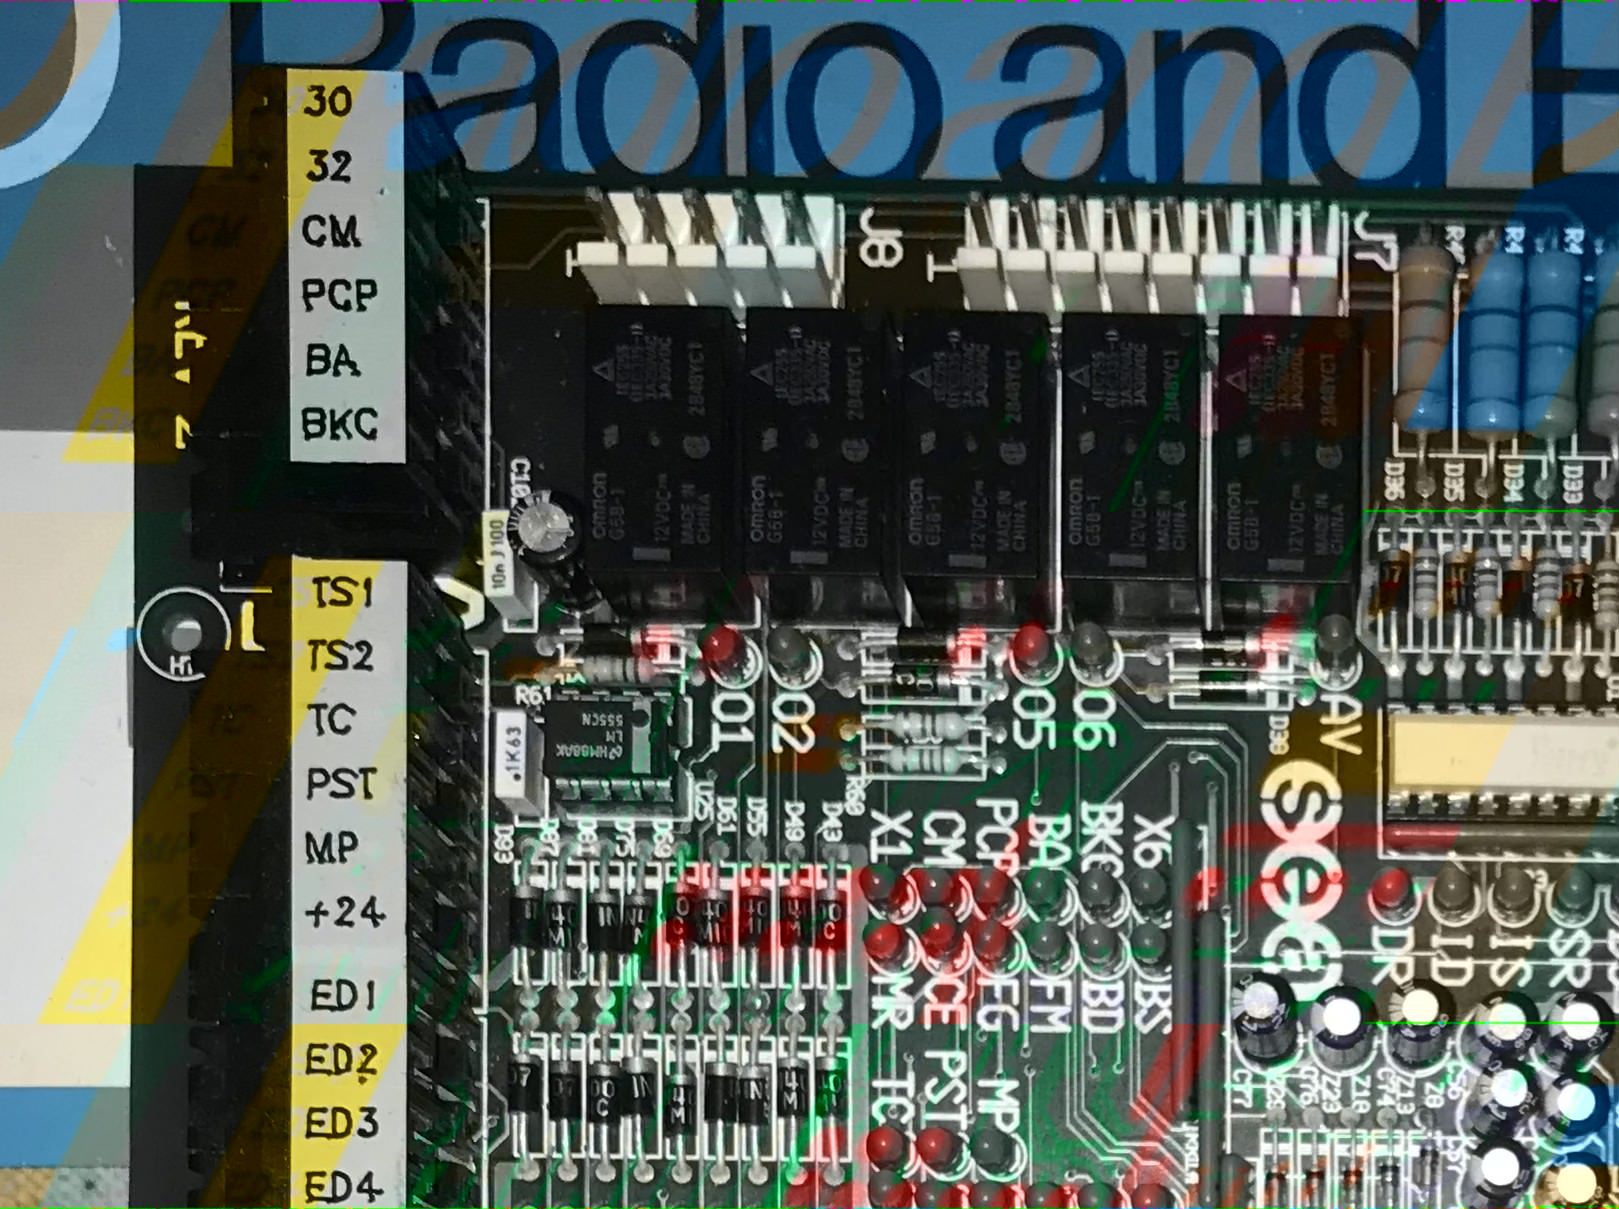Capacitor: (496, 485, 607, 610), (1225, 966, 1304, 1074), (1451, 1057, 1544, 1147), (1531, 989, 1616, 1079), (1383, 970, 1458, 1071), (1458, 985, 1543, 1072), (1307, 984, 1383, 1079), (1528, 1071, 1609, 1148), (1462, 1133, 1536, 1209), (1530, 1147, 1609, 1209)
Diode: (874, 625, 982, 667), (1173, 671, 1288, 707), (582, 880, 623, 972), (566, 616, 663, 654), (1559, 552, 1600, 643), (697, 875, 734, 970), (1186, 627, 1276, 665), (775, 878, 815, 961), (1496, 549, 1538, 630), (621, 883, 659, 970), (1371, 542, 1412, 624), (880, 660, 971, 696), (583, 1053, 623, 1133), (809, 1052, 855, 1123), (735, 880, 775, 963), (507, 875, 545, 960), (1437, 544, 1478, 622), (545, 883, 585, 960), (815, 883, 852, 965), (664, 1063, 700, 1147), (623, 1053, 662, 1130), (703, 1058, 740, 1137), (663, 876, 700, 954), (739, 1057, 776, 1133), (773, 1054, 811, 1128), (505, 1049, 545, 1120), (549, 1052, 582, 1132), (1415, 1137, 1444, 1199), (1376, 1156, 1404, 1208), (1338, 1159, 1366, 1209), (1302, 1161, 1328, 1209), (1263, 1162, 1288, 1209)
LED: (692, 616, 758, 686), (758, 624, 825, 686), (910, 903, 971, 968), (1062, 618, 1124, 681), (858, 914, 921, 977), (1015, 861, 1074, 922), (1310, 611, 1361, 682), (855, 861, 914, 919), (1364, 862, 1420, 925), (1124, 860, 1178, 923), (1009, 618, 1062, 685), (966, 918, 1023, 977), (1021, 916, 1076, 977), (968, 862, 1025, 919), (910, 1121, 969, 1177), (1550, 865, 1600, 930), (964, 1125, 1023, 1177), (1429, 865, 1481, 925), (1124, 919, 1177, 977), (914, 862, 968, 918), (1077, 919, 1128, 975), (1489, 865, 1539, 922), (1076, 866, 1125, 922), (862, 1124, 918, 1172), (1073, 1179, 1135, 1209), (863, 1170, 910, 1209), (964, 1177, 1021, 1209), (1016, 1175, 1068, 1209), (912, 1177, 961, 1209), (1125, 1182, 1181, 1209)
Resistor: (1456, 232, 1525, 457), (1388, 232, 1456, 453), (1525, 241, 1590, 457), (1581, 240, 1619, 451), (871, 739, 980, 777), (869, 710, 985, 743), (568, 651, 668, 687), (1407, 537, 1444, 627), (1469, 535, 1503, 629), (1531, 538, 1566, 627), (1595, 552, 1619, 643)
